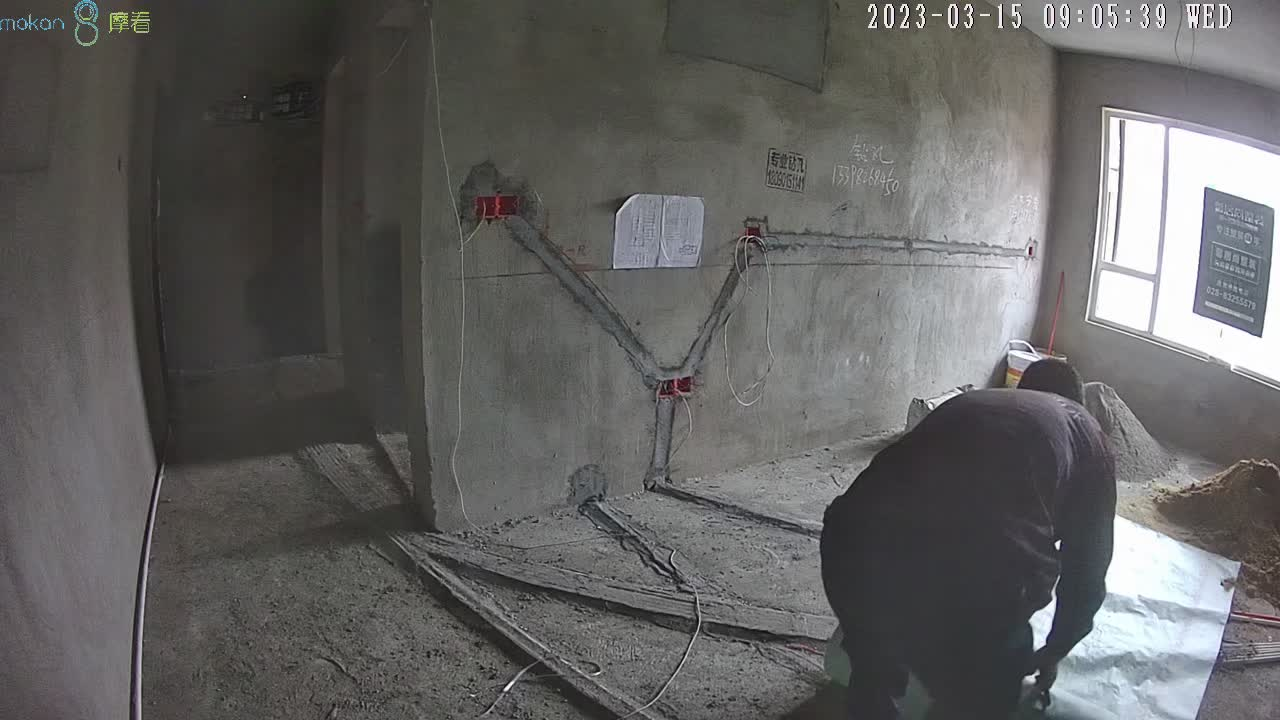people: (820, 357, 1118, 720)
window: (1090, 108, 1280, 381)
